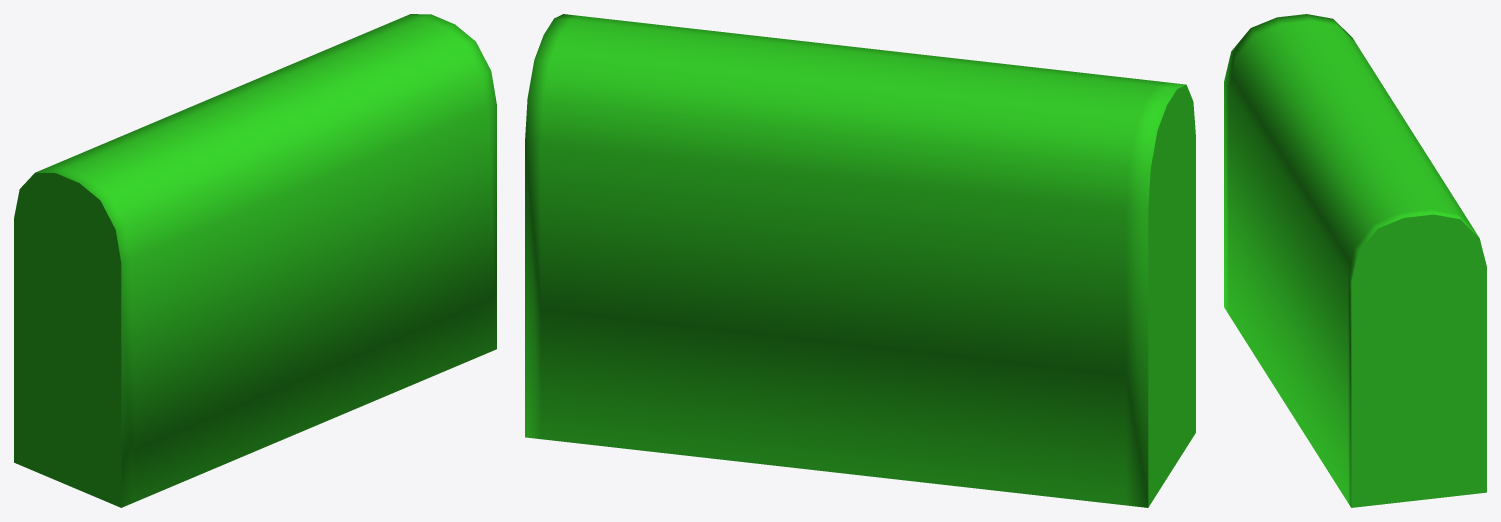
Rendered from NormalContent.fbx.
3 views of the same model, side by side, from view 1: azimuth 30°, elevation 25°; view 2: azimuth 150°, elevation 25°; view 3: azimuth 270°, elevation 25° (orthographic). The views are drawn at different scales.
Visible parts, largest first — view 1: Model; view 2: Model; view 3: Model.
Part boxes in pixels (left/top/right/bottom): Model: left=14, top=14, right=496, bottom=507; Model: left=525, top=14, right=1195, bottom=507; Model: left=1224, top=14, right=1486, bottom=507.
Size of what is drawn, in the model's own units: 1.3 by 0.7985 by 0.6692.
